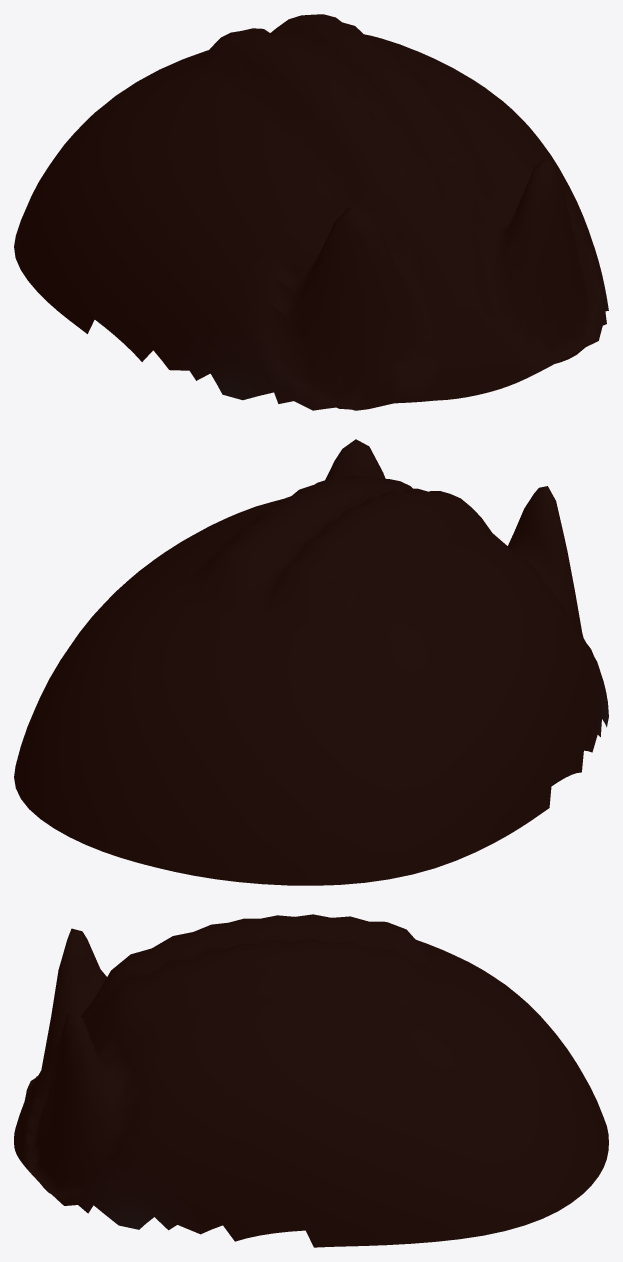
Rendered from front03.dae.dae.
The picture shows the model from 3 angles, top to bottom: view 1: azimuth 30°, elevation 25°; view 2: azimuth 150°, elevation 25°; view 3: azimuth 270°, elevation 25°; orthographic projection. The views are drawn at different scales.
Parts seen in each view (by area): view 1: Body; view 2: Body; view 3: Body.
Boxes of the visible parts, box(x1,y1,x2,y2) form: Body: box(14, 14, 608, 410); Body: box(14, 439, 608, 885); Body: box(14, 914, 608, 1247).
Size of the model in its own units: 15.31 by 18.68 by 7.4.
